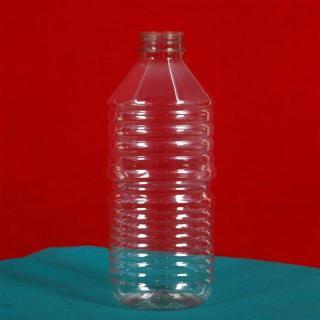Anorganik: (103, 26, 221, 314)
